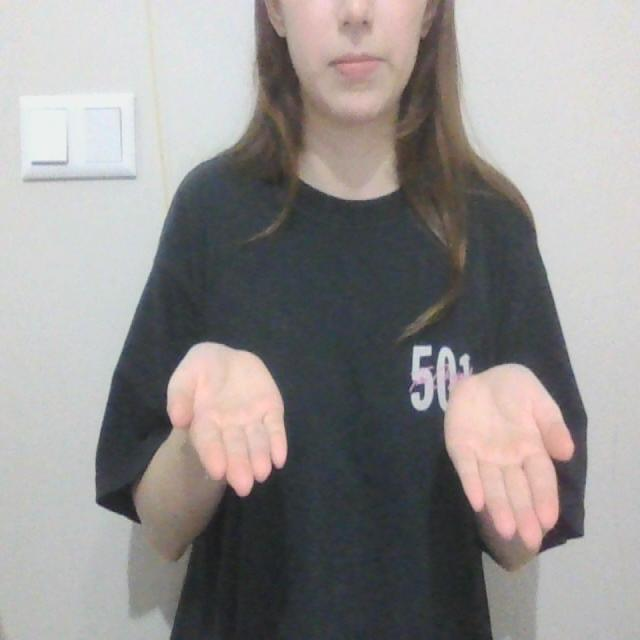Evet: (163, 335, 575, 557)
